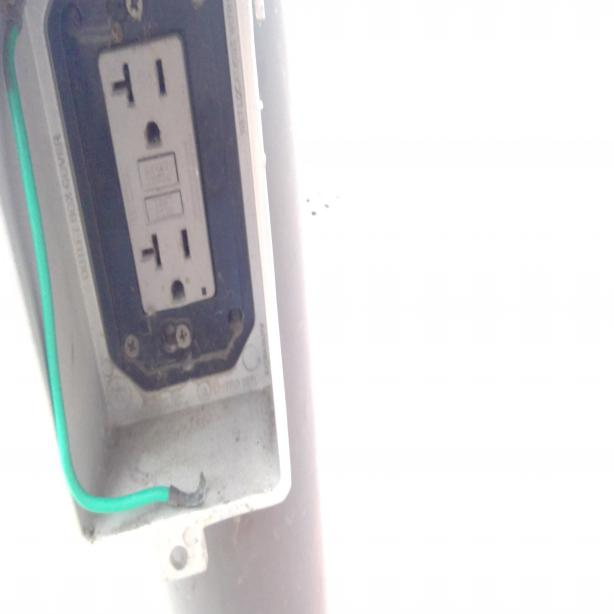typeb: (113, 49, 183, 162), (129, 221, 198, 304)
